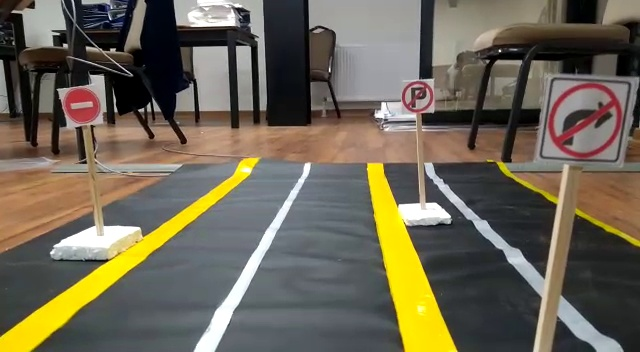girisi_olmayan_yol: (60, 87, 103, 123)
park_yapilmaz: (401, 82, 434, 112)
saga_donulmez: (552, 78, 623, 162)
